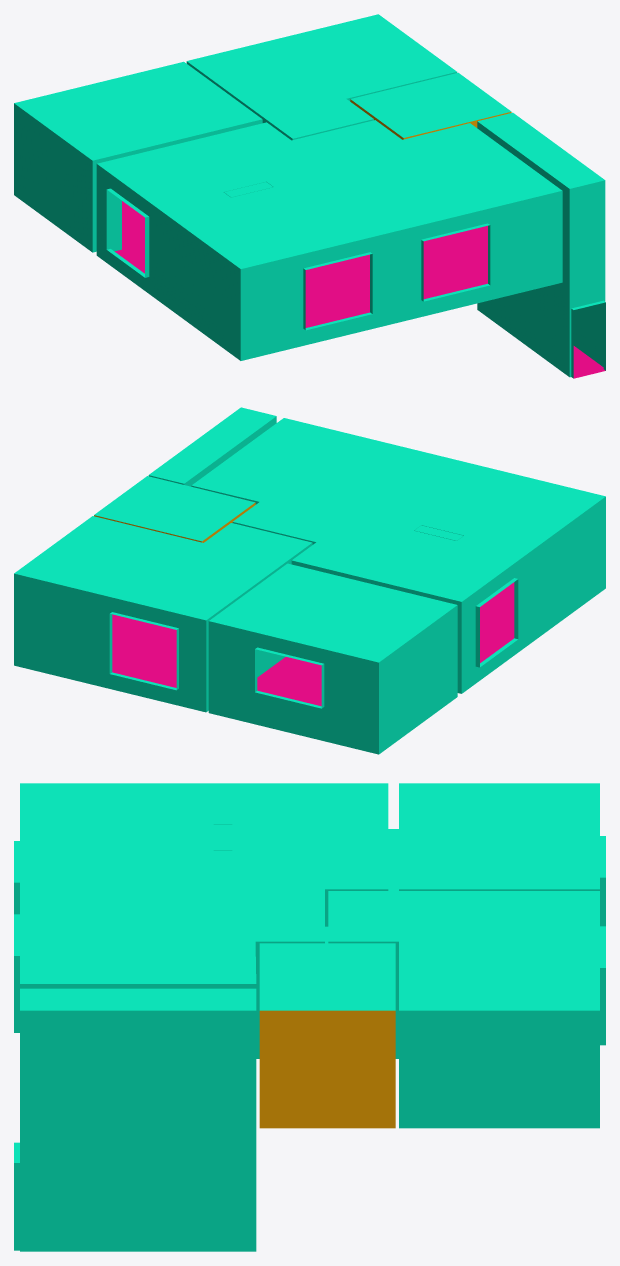
The model's file is Apartment_2.FBX.
The picture shows the model from 3 angles, top to bottom: view 1: azimuth 30°, elevation 25°; view 2: azimuth 150°, elevation 25°; view 3: azimuth 270°, elevation 25°; orthographic projection. The views are drawn at different scales.
Visible parts, largest first — view 1: Apartment_2; view 2: Apartment_2; view 3: Apartment_2.
Part boxes in pixels (x1,y1,x2,y2): Apartment_2: [14, 14, 605, 378]; Apartment_2: [14, 407, 605, 754]; Apartment_2: [14, 783, 605, 1251].
Bounding box in the file's own units: 1126 × 551 × 1225.
